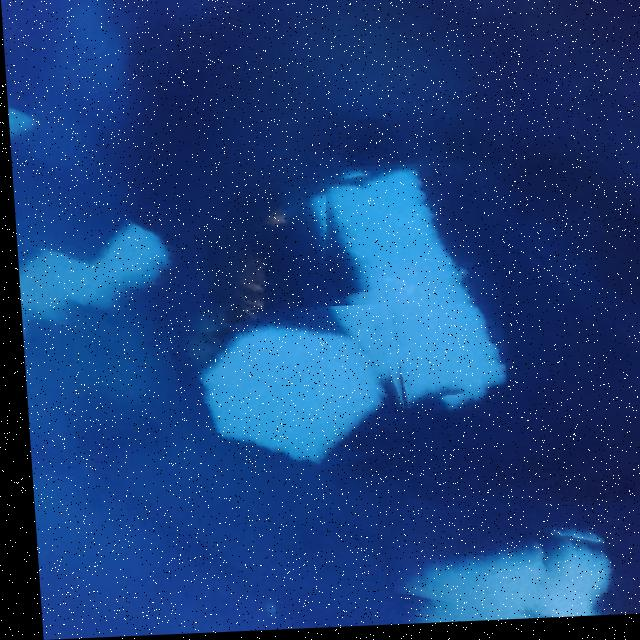litter: (307, 165, 501, 418), (169, 307, 406, 495), (381, 508, 640, 628), (12, 217, 178, 320)
